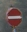No entry: (5, 6, 22, 27)
